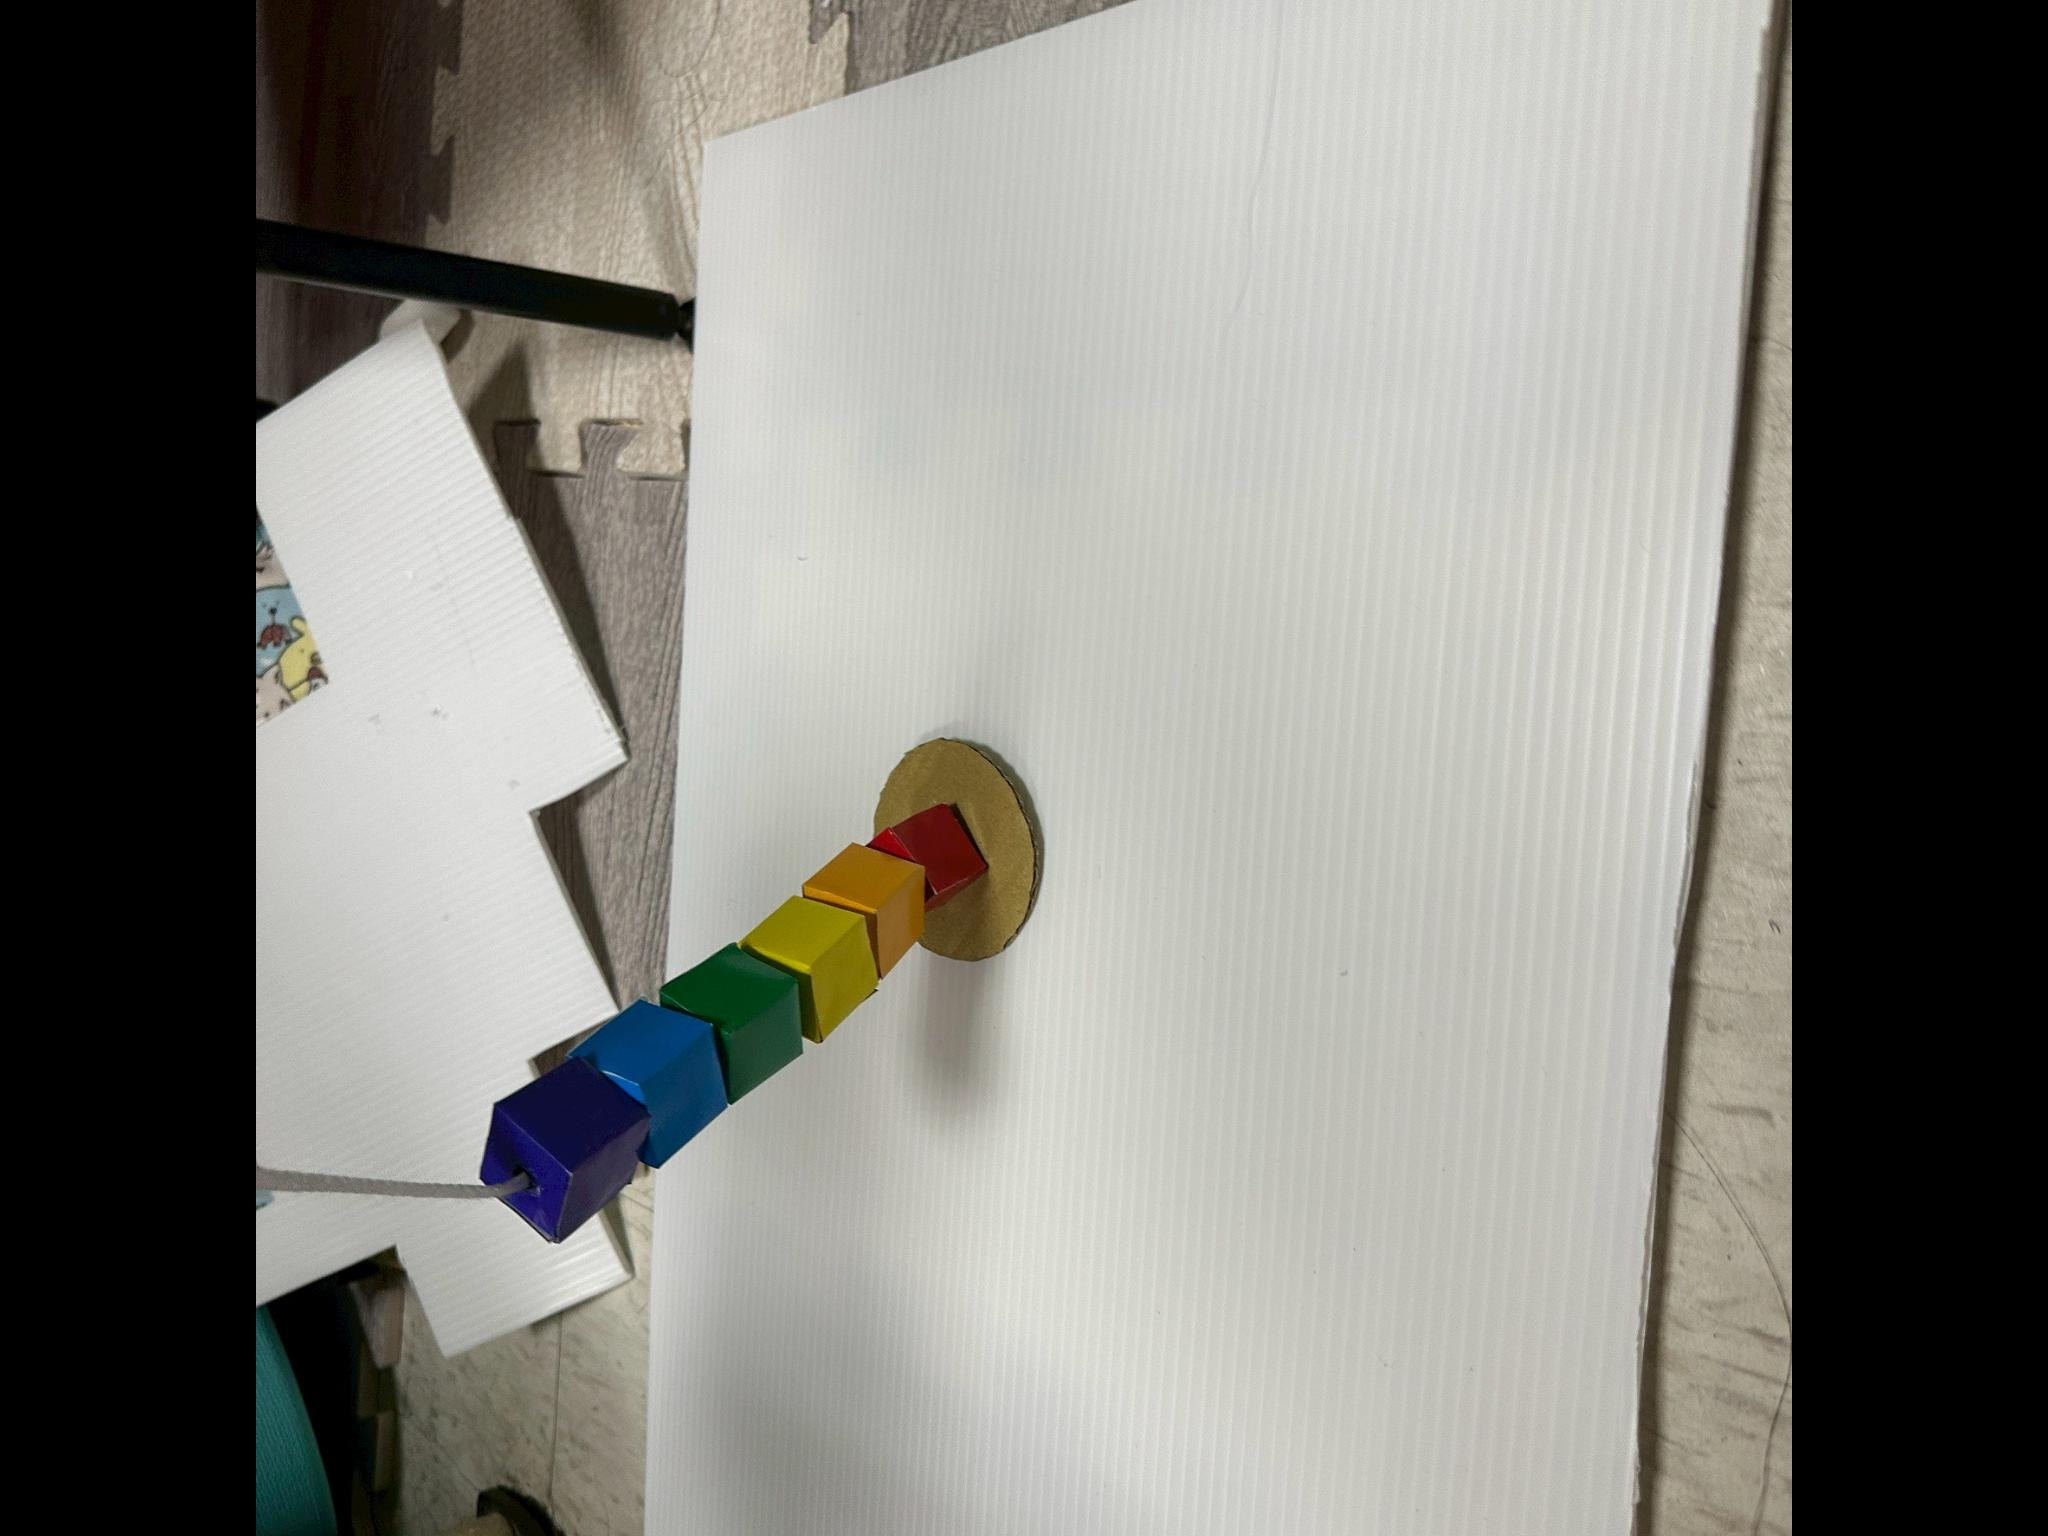base: (874, 737, 1042, 960)
cube: (481, 1055, 650, 1241), (571, 1000, 729, 1165), (660, 942, 803, 1102), (740, 894, 879, 1041), (803, 844, 926, 976), (869, 802, 987, 910)
